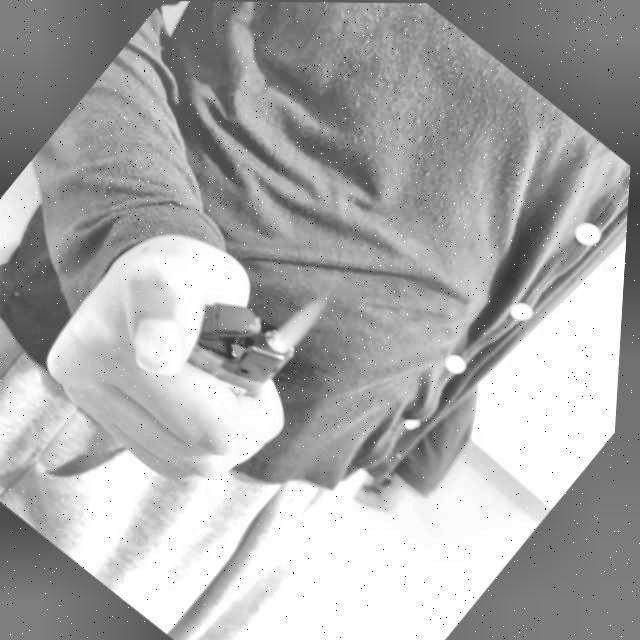Fire: (270, 285, 340, 360)
